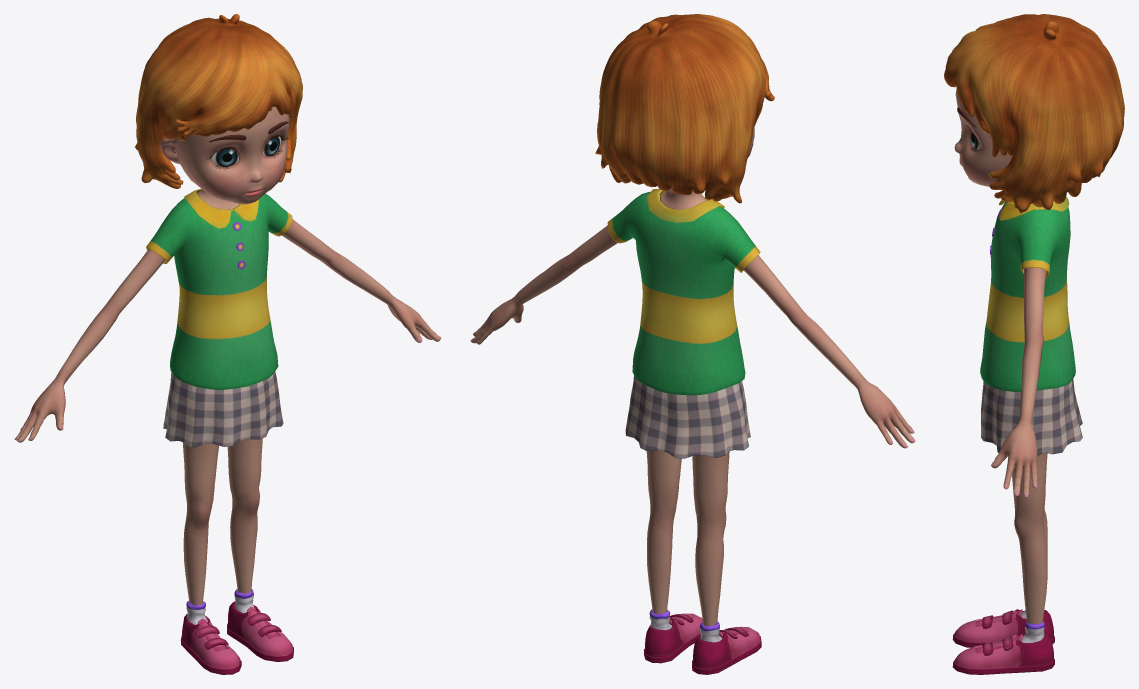
File: girl.gltf
3 renders of one model, left to right at view 1: azimuth 30°, elevation 25°; view 2: azimuth 150°, elevation 25°; view 3: azimuth 270°, elevation 25°, orthographic. The views are drawn at different scales.
Parts seen in each view (by area): view 1: cloth_geo, hair_geo, body_geo, head_geo, skirt_geo, L_shoe_geo, R_shoe_geo; view 2: hair_geo, cloth_geo, body_geo, skirt_geo, R_shoe_geo, L_shoe_geo, head_geo; view 3: hair_geo, cloth_geo, body_geo, skirt_geo, L_shoe_geo, head_geo, R_shoe_geo, L_sock_geo.
Part boxes in pixels (x1,y1,x2,y2): cloth_geo: (146, 188, 292, 390); hair_geo: (135, 14, 302, 188); body_geo: (14, 219, 441, 605); head_geo: (159, 106, 289, 209); skirt_geo: (163, 371, 283, 447); L_shoe_geo: (227, 601, 293, 661); R_shoe_geo: (180, 614, 241, 674); hair_geo: (595, 14, 774, 203); cloth_geo: (607, 188, 760, 395); body_geo: (470, 225, 915, 626); skirt_geo: (625, 376, 750, 458); R_shoe_geo: (692, 626, 761, 674); L_shoe_geo: (644, 613, 702, 663); head_geo: (661, 126, 754, 209); hair_geo: (944, 14, 1124, 213); cloth_geo: (980, 196, 1075, 391); body_geo: (991, 267, 1047, 624); skirt_geo: (981, 379, 1082, 455); L_shoe_geo: (952, 632, 1054, 674); head_geo: (954, 87, 1012, 186); R_shoe_geo: (952, 609, 1054, 647); L_sock_geo: (1021, 621, 1044, 642).
Size of the model in its own units: 0.9031 by 1.25 by 0.3217.
Materials: 10 (8 with a texture image).
